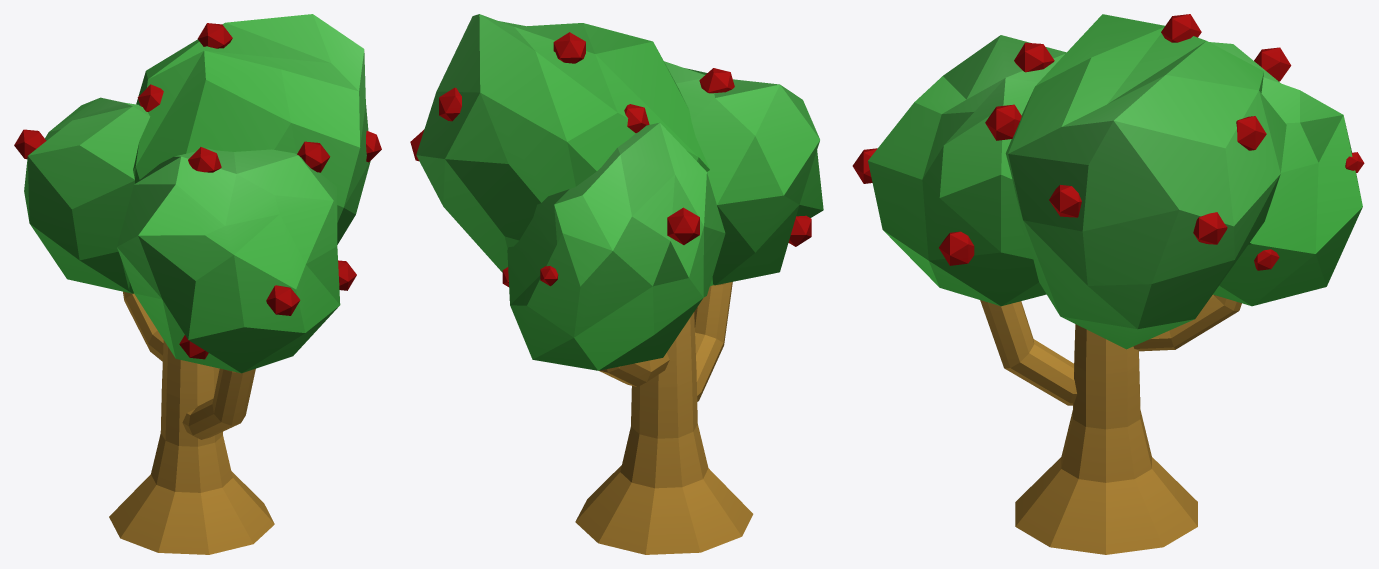
File: GuoShu.fbx
The picture shows the model from 3 angles, left to right: view 1: azimuth 30°, elevation 25°; view 2: azimuth 150°, elevation 25°; view 3: azimuth 270°, elevation 25°; orthographic projection. The views are drawn at different scales.
Parts seen in each view (by area): view 1: GuoShu_7, GuoShu_5, GuoShu_6, GuoShu_1, GuoShu_3, GuoShu_2, GuoShu_4, GuoZi_5, GuoZi_9, GuoZi_8, GuoZi_7, GuoZi_11 (+1 smaller); view 2: GuoShu_5, GuoShu_6, GuoShu_7, GuoShu_1, GuoShu_3, GuoShu_2, GuoShu_4, GuoZi_11, GuoZi_9, GuoZi_7, GuoZi_13, GuoZi_6 (+1 smaller); view 3: GuoShu_5, GuoShu_7, GuoShu_1, GuoShu_6, GuoShu_3, GuoShu_2, GuoShu_4, GuoZi_8, GuoZi_14, GuoZi_7, GuoZi_2, GuoZi_9 (+3 smaller).
Part boxes in pixels (bbox=[...]): GuoShu_7: bbox=[117, 148, 340, 373]; GuoShu_5: bbox=[121, 14, 370, 292]; GuoShu_6: bbox=[24, 97, 150, 293]; GuoShu_1: bbox=[109, 385, 274, 554]; GuoShu_3: bbox=[182, 368, 255, 439]; GuoShu_2: bbox=[162, 340, 219, 398]; GuoShu_4: bbox=[123, 291, 163, 361]; GuoZi_5: bbox=[266, 285, 300, 315]; GuoZi_9: bbox=[197, 23, 232, 48]; GuoZi_8: bbox=[297, 141, 330, 172]; GuoZi_7: bbox=[188, 147, 221, 172]; GuoZi_11: bbox=[14, 129, 46, 159]; GuoShu_5: bbox=[416, 14, 712, 286]; GuoShu_6: bbox=[507, 122, 725, 370]; GuoShu_7: bbox=[664, 61, 823, 285]; GuoShu_1: bbox=[575, 373, 753, 554]; GuoShu_3: bbox=[694, 282, 732, 401]; GuoShu_2: bbox=[644, 312, 696, 387]; GuoShu_4: bbox=[599, 353, 669, 386]; GuoZi_11: bbox=[667, 207, 699, 244]; GuoZi_9: bbox=[553, 32, 585, 63]; GuoZi_7: bbox=[699, 68, 734, 93]; GuoZi_13: bbox=[439, 87, 461, 121]; GuoZi_6: bbox=[788, 215, 811, 246]; GuoShu_5: bbox=[1005, 14, 1286, 349]; GuoShu_7: bbox=[868, 35, 1066, 306]; GuoShu_1: bbox=[1015, 359, 1197, 554]; GuoShu_6: bbox=[1209, 42, 1362, 306]; GuoShu_3: bbox=[980, 300, 1076, 405]; GuoShu_2: bbox=[1074, 324, 1138, 373]; GuoShu_4: bbox=[1133, 294, 1241, 351]; GuoZi_8: bbox=[985, 104, 1021, 140]; GuoZi_14: bbox=[939, 231, 974, 265]; GuoZi_7: bbox=[1014, 42, 1054, 72]; GuoZi_2: bbox=[1193, 212, 1227, 244]; GuoZi_9: bbox=[1161, 14, 1201, 42].
Bounding box in the file's own units: 28.7 × 43.16 × 37.84.
